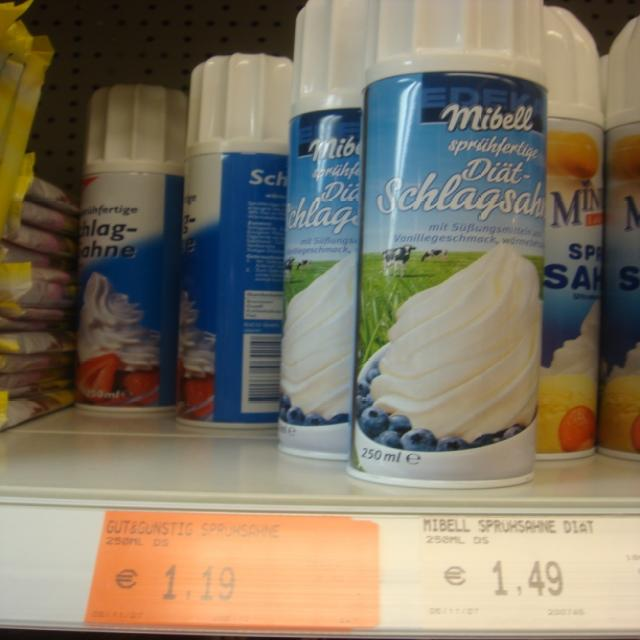cream: (349, 0, 547, 489), (176, 53, 292, 428), (279, 0, 366, 460), (76, 84, 187, 412), (538, 5, 604, 460), (598, 16, 639, 460)
